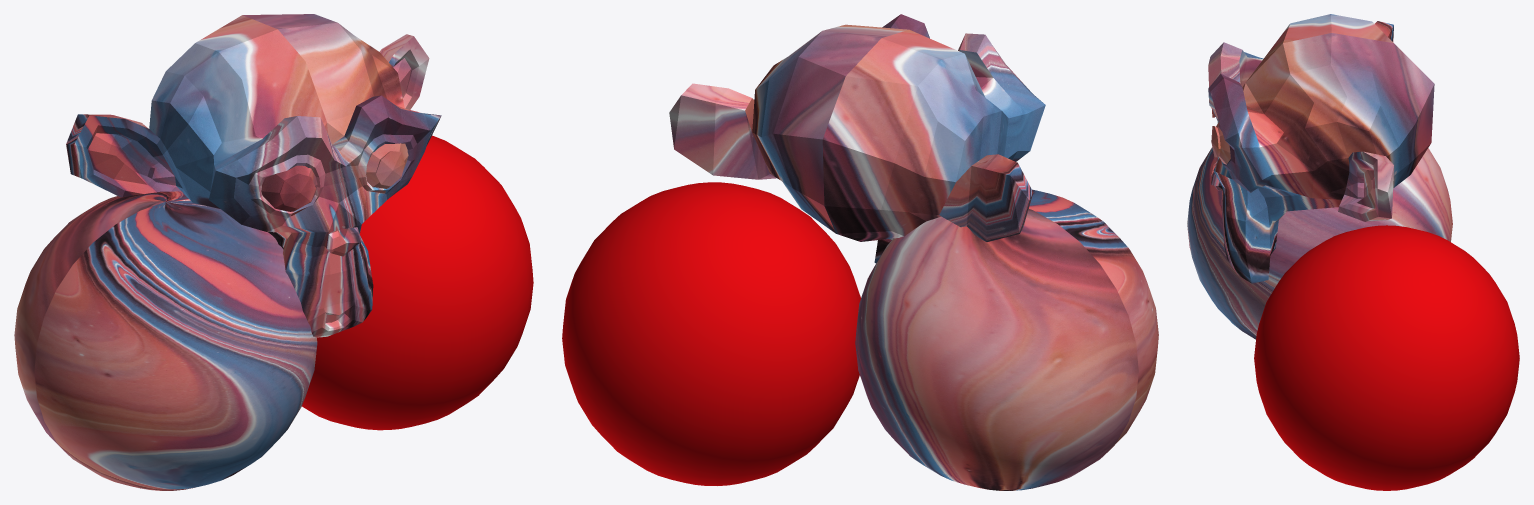
File: Monkey.glb
3 renders of one model, left to right at view 1: azimuth 30°, elevation 25°; view 2: azimuth 150°, elevation 25°; view 3: azimuth 270°, elevation 25°, orthographic. The views are drawn at different scales.
Parts seen in each view (by area): view 1: Sphere, Suzanne, Sphere.001; view 2: Sphere.001, Sphere, Suzanne; view 3: Sphere.001, Suzanne, Sphere.
Boxes of the visible parts, x1=… form: Sphere: x1=14, y1=191, x2=317, y2=490; Suzanne: x1=66, y1=14, x2=441, y2=337; Sphere.001: x1=302, y1=135, x2=533, y2=430; Sphere.001: x1=562, y1=182, x2=860, y2=485; Sphere: x1=855, y1=189, x2=1158, y2=490; Suzanne: x1=669, y1=14, x2=1045, y2=263; Sphere.001: x1=1254, y1=225, x2=1519, y2=490; Suzanne: x1=1208, y1=14, x2=1434, y2=283; Sphere: x1=1187, y1=147, x2=1452, y2=339.
Size of the model in its own units: 3.94 by 3.22 by 2.5.
2 materials, 1 textured.
